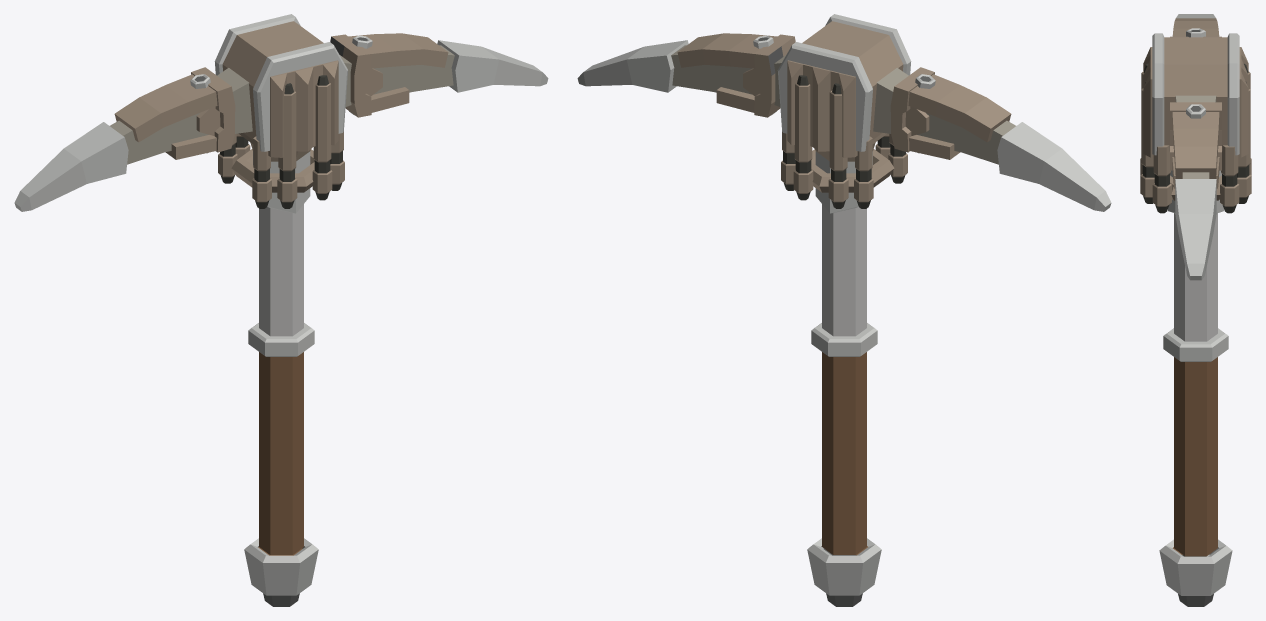
Rendered from Pickaxe.fbx.
3 renders of one model, left to right at view 1: azimuth 30°, elevation 25°; view 2: azimuth 150°, elevation 25°; view 3: azimuth 270°, elevation 25°, orthographic. The views are drawn at different scales.
Parts seen in each view (by area): view 1: Head, FrontBlade, BackBlade, Handle, Shaft, Pommel; view 2: Head, FrontBlade, BackBlade, Handle, Shaft, Pommel; view 3: Head, Handle, BackBlade, Shaft, Pommel, FrontBlade.
Boxes of the visible parts, bbox=[...] form: Head: bbox=[214, 14, 348, 213]; FrontBlade: bbox=[14, 67, 252, 211]; BackBlade: bbox=[330, 33, 548, 117]; Handle: bbox=[248, 323, 314, 554]; Shaft: bbox=[259, 204, 303, 336]; Pommel: bbox=[244, 538, 318, 606]; Head: bbox=[777, 14, 911, 213]; FrontBlade: bbox=[873, 67, 1111, 211]; BackBlade: bbox=[577, 33, 795, 117]; Handle: bbox=[811, 323, 877, 554]; Shaft: bbox=[822, 204, 866, 336]; Pommel: bbox=[807, 538, 881, 606]; Head: bbox=[1140, 33, 1251, 213]; Handle: bbox=[1163, 328, 1228, 556]; BackBlade: bbox=[1170, 95, 1221, 280]; Shaft: bbox=[1174, 213, 1217, 341]; Pommel: bbox=[1159, 539, 1232, 606]; FrontBlade: bbox=[1170, 14, 1221, 37].
Bounding box in the file's own units: 391 × 398 × 72.73.
1 material, 1 textured.
